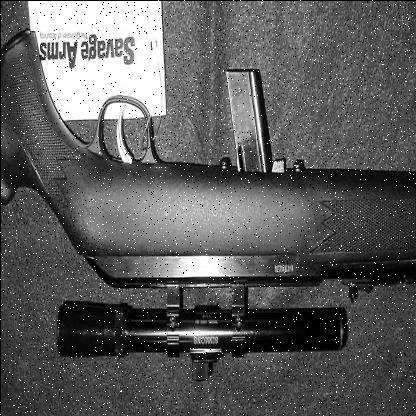rifle: (0, 18, 416, 314)
